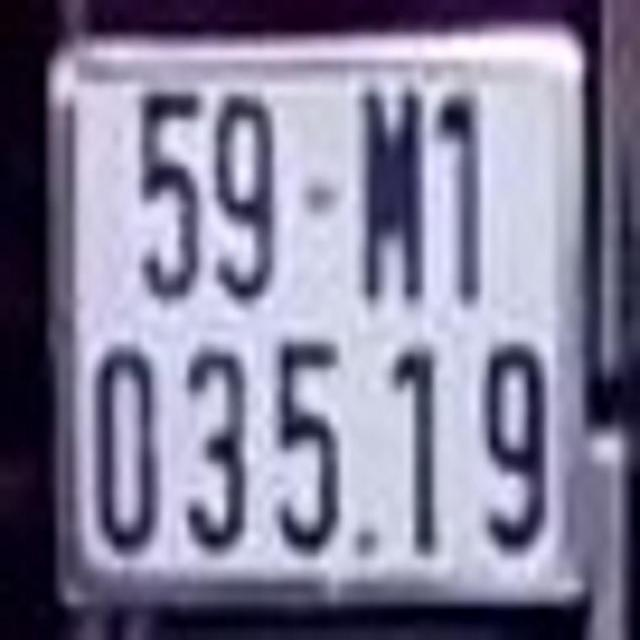0: (92, 344, 160, 545)
1: (389, 346, 444, 557), (436, 92, 488, 300)
3: (184, 349, 245, 546)
5: (136, 84, 206, 295), (279, 346, 344, 553)
9: (480, 344, 549, 551), (210, 91, 274, 296)
M: (360, 92, 423, 302)
